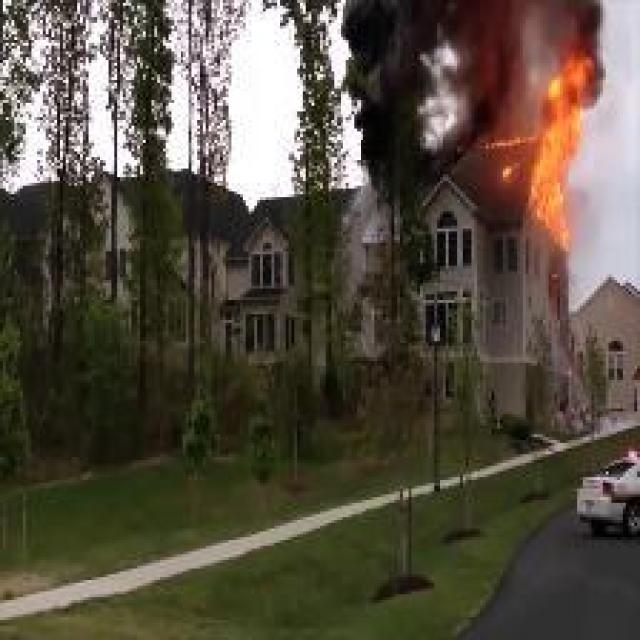fire: (526, 45, 605, 247), (471, 129, 530, 178)
smoke: (327, 0, 447, 186), (452, 0, 528, 123)
